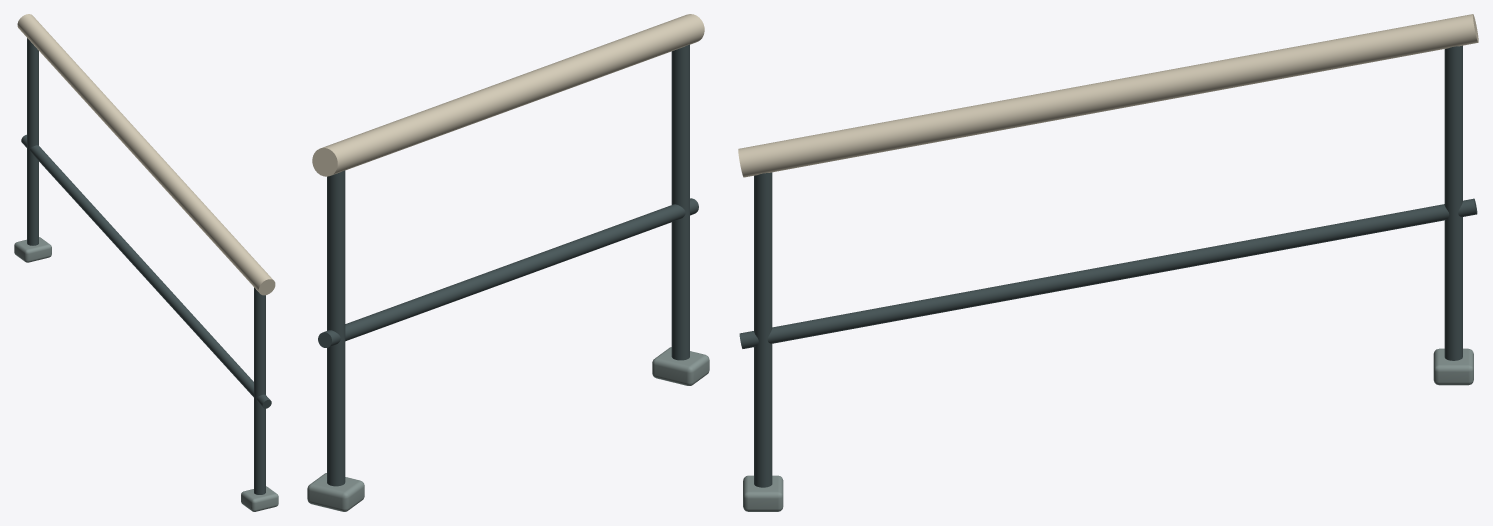
File: ramp-rail-2m.glb
3 views of the same model, side by side, from view 1: azimuth 30°, elevation 25°; view 2: azimuth 150°, elevation 25°; view 3: azimuth 270°, elevation 25° (orthographic). The views are drawn at different scales.
Visible parts, largest first — view 1: ramp-rail-2m / 06 • dark anodized frame, ramp-rail-2m / 01 • warm porcelain paint, ramp-rail-2m / 05 • brushed titanium; view 2: ramp-rail-2m / 06 • dark anodized frame, ramp-rail-2m / 01 • warm porcelain paint, ramp-rail-2m / 05 • brushed titanium; view 3: ramp-rail-2m / 06 • dark anodized frame, ramp-rail-2m / 01 • warm porcelain paint, ramp-rail-2m / 05 • brushed titanium.
Boxes of the visible parts, x1,y1,x2,y2 form: ramp-rail-2m / 06 • dark anodized frame: (21, 38, 271, 494); ramp-rail-2m / 01 • warm porcelain paint: (17, 14, 275, 295); ramp-rail-2m / 05 • brushed titanium: (14, 237, 278, 511); ramp-rail-2m / 06 • dark anodized frame: (318, 44, 698, 486); ramp-rail-2m / 01 • warm porcelain paint: (312, 14, 704, 176); ramp-rail-2m / 05 • brushed titanium: (307, 347, 709, 511); ramp-rail-2m / 06 • dark anodized frame: (739, 45, 1477, 487); ramp-rail-2m / 01 • warm porcelain paint: (738, 14, 1478, 177); ramp-rail-2m / 05 • brushed titanium: (743, 348, 1473, 511).
Bounding box in the file's own units: 0.13 × 1.47 × 2.02.
